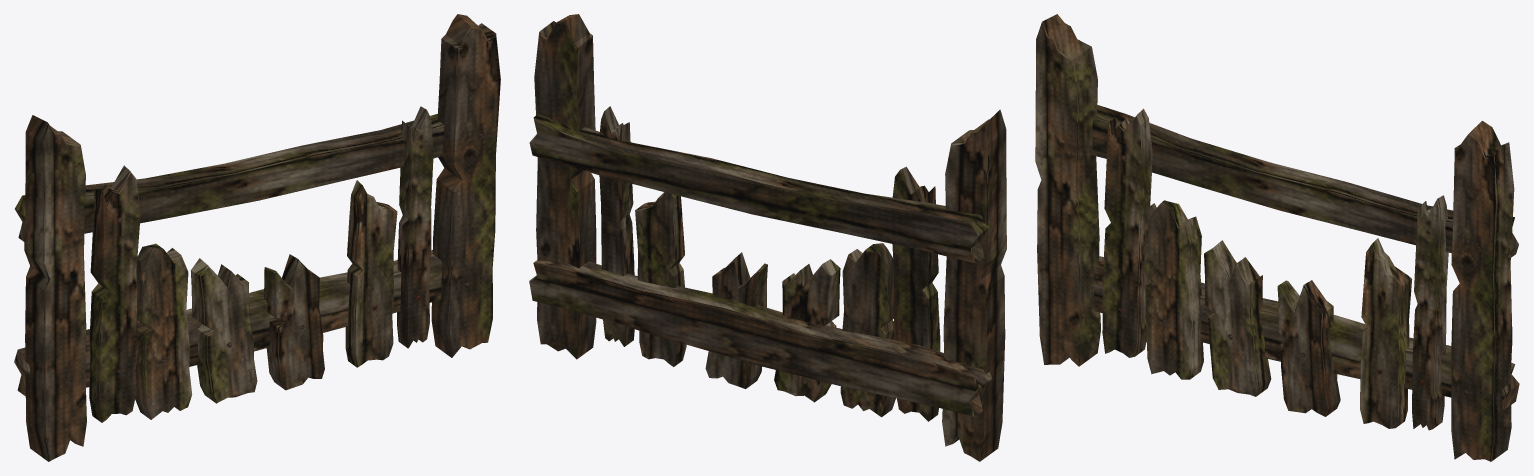
File: Cerca-Miolo-Baixo.glb
3 renders of one model, left to right at view 1: azimuth 30°, elevation 25°; view 2: azimuth 150°, elevation 25°; view 3: azimuth 330°, elevation 25°, orthographic.
Parts seen in each view (by area): view 1: Cerca quebrada; view 2: Cerca quebrada; view 3: Cerca quebrada.
Boxes of the visible parts, <box> form: Cerca quebrada: <box>14,14,500,461</box>; Cerca quebrada: <box>529,14,1006,461</box>; Cerca quebrada: <box>1035,14,1519,461</box>.
Bounding box in the file's own units: 2.23 × 1.58 × 0.2599.
Materials: 2 (2 with a texture image).
